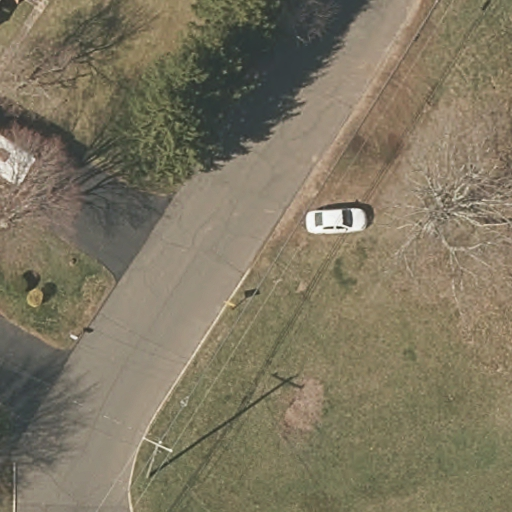DT: (132, 426, 184, 487)
